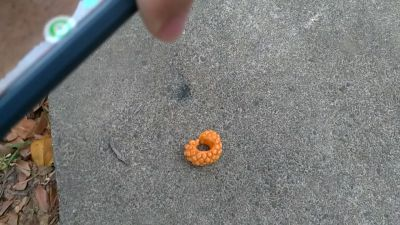eggs: (183, 130, 224, 168)
